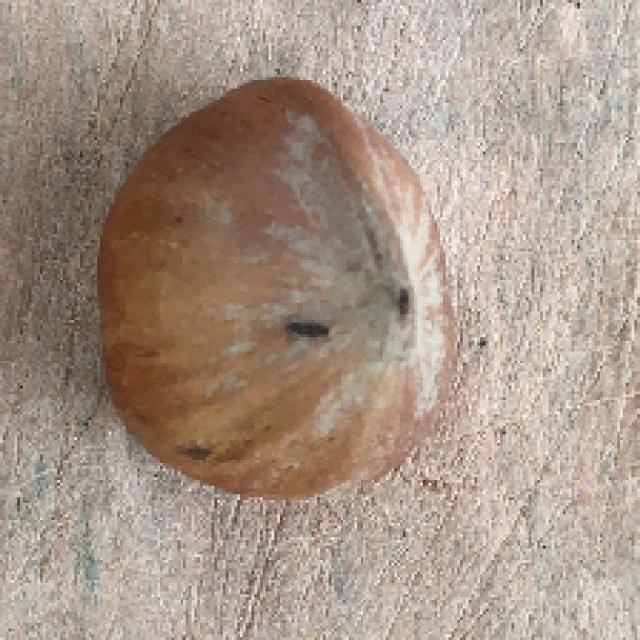damagedHazelnut: (91, 75, 459, 494)
